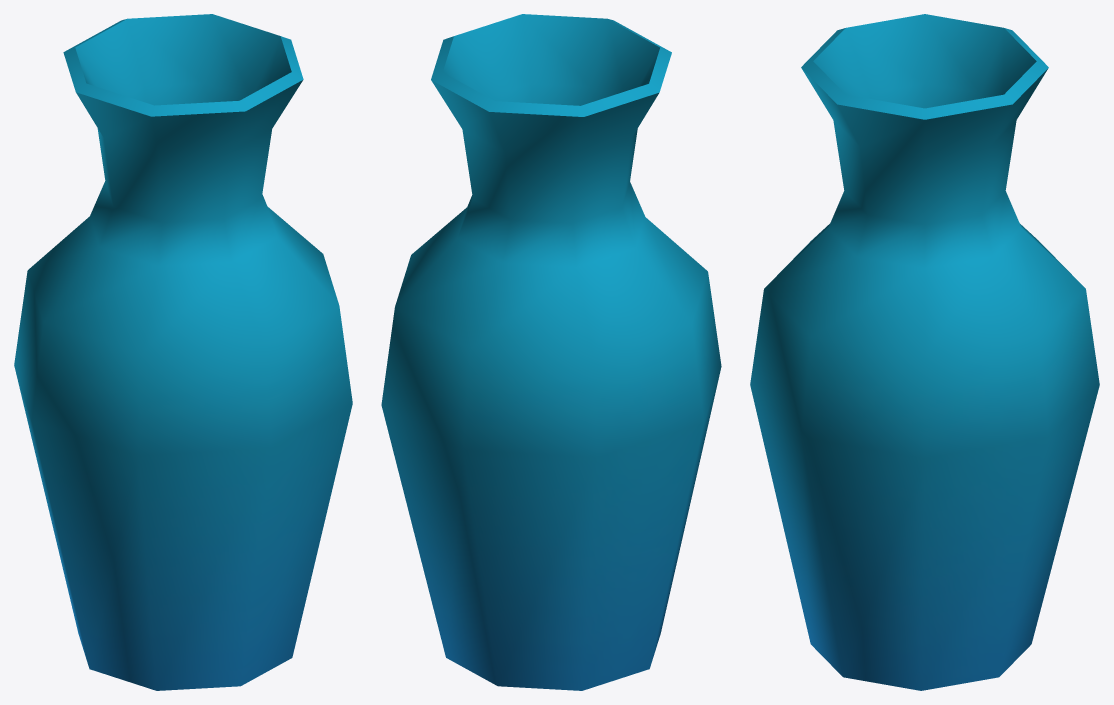
File: SM_Vase_1_03.fbx
The picture shows the model from 3 angles, left to right: view 1: azimuth 30°, elevation 25°; view 2: azimuth 150°, elevation 25°; view 3: azimuth 270°, elevation 25°; orthographic projection.
Visible parts, largest first — view 1: SM_Vase_1_03; view 2: SM_Vase_1_03; view 3: SM_Vase_1_03.
Part boxes in pixels (box(x1,y1,x2,y2)): SM_Vase_1_03: box(14, 14, 352, 690); SM_Vase_1_03: box(381, 14, 721, 690); SM_Vase_1_03: box(750, 14, 1099, 690).
Size of the model in its own units: 39.87 by 73.36 by 39.87.
